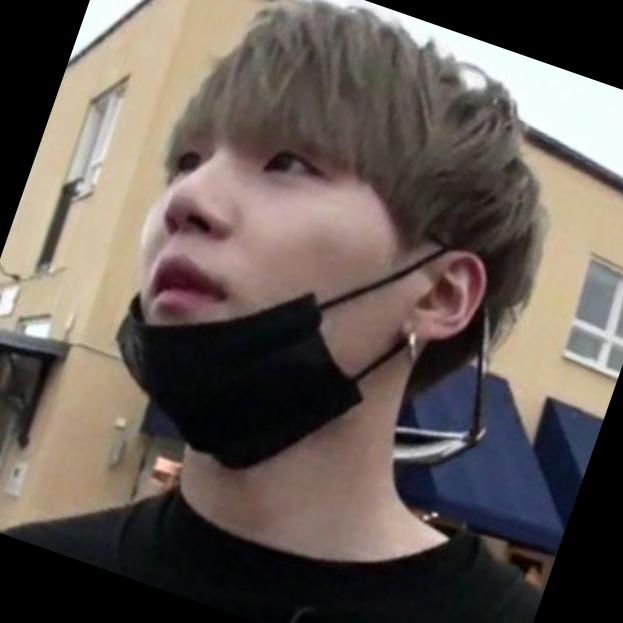mask_weared_incorrect: (92, 124, 418, 445)
